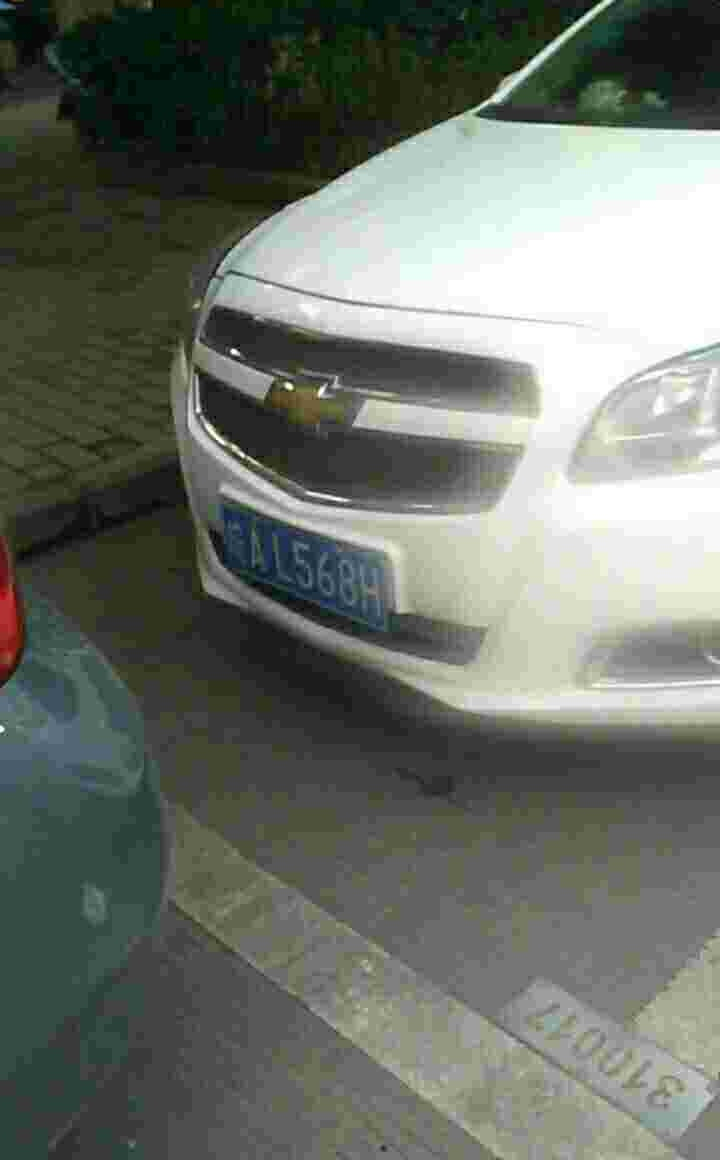license_plate: (219, 500, 394, 628)
